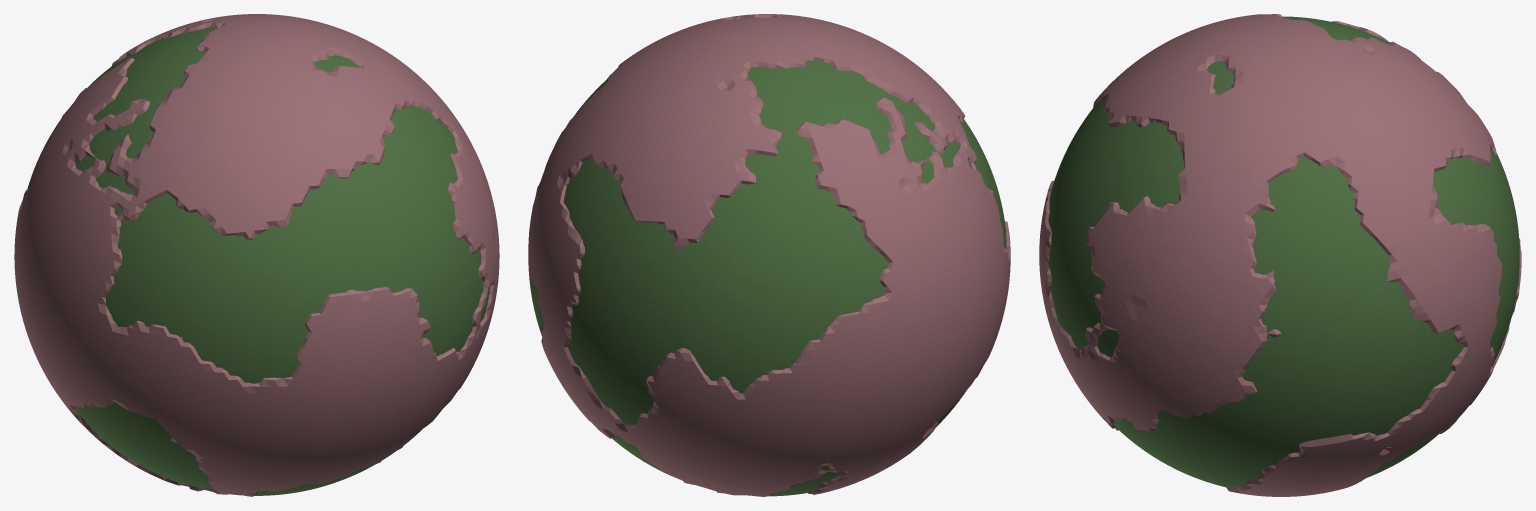
Rendered from new-forest-planet.fbx.
The picture shows the model from 3 angles, left to right: view 1: azimuth 30°, elevation 25°; view 2: azimuth 150°, elevation 25°; view 3: azimuth 270°, elevation 25°; orthographic projection.
Visible parts, largest first — view 1: Forest-Planet; view 2: Forest-Planet; view 3: Forest-Planet.
Part boxes in pixels (x1,y1,x2,y2): Forest-Planet: (14,14,499,496); Forest-Planet: (528,14,1010,496); Forest-Planet: (1039,14,1521,496).
Size of the model in its own units: 688 by 686 by 688.
